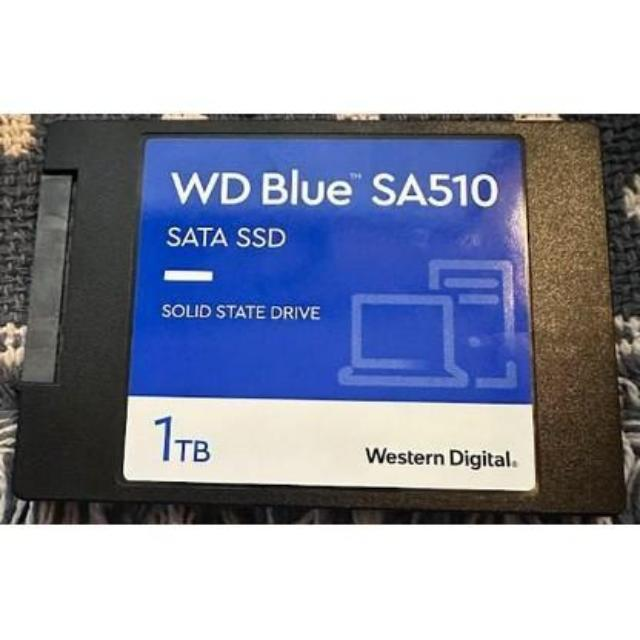DISK: (4, 113, 636, 522)
